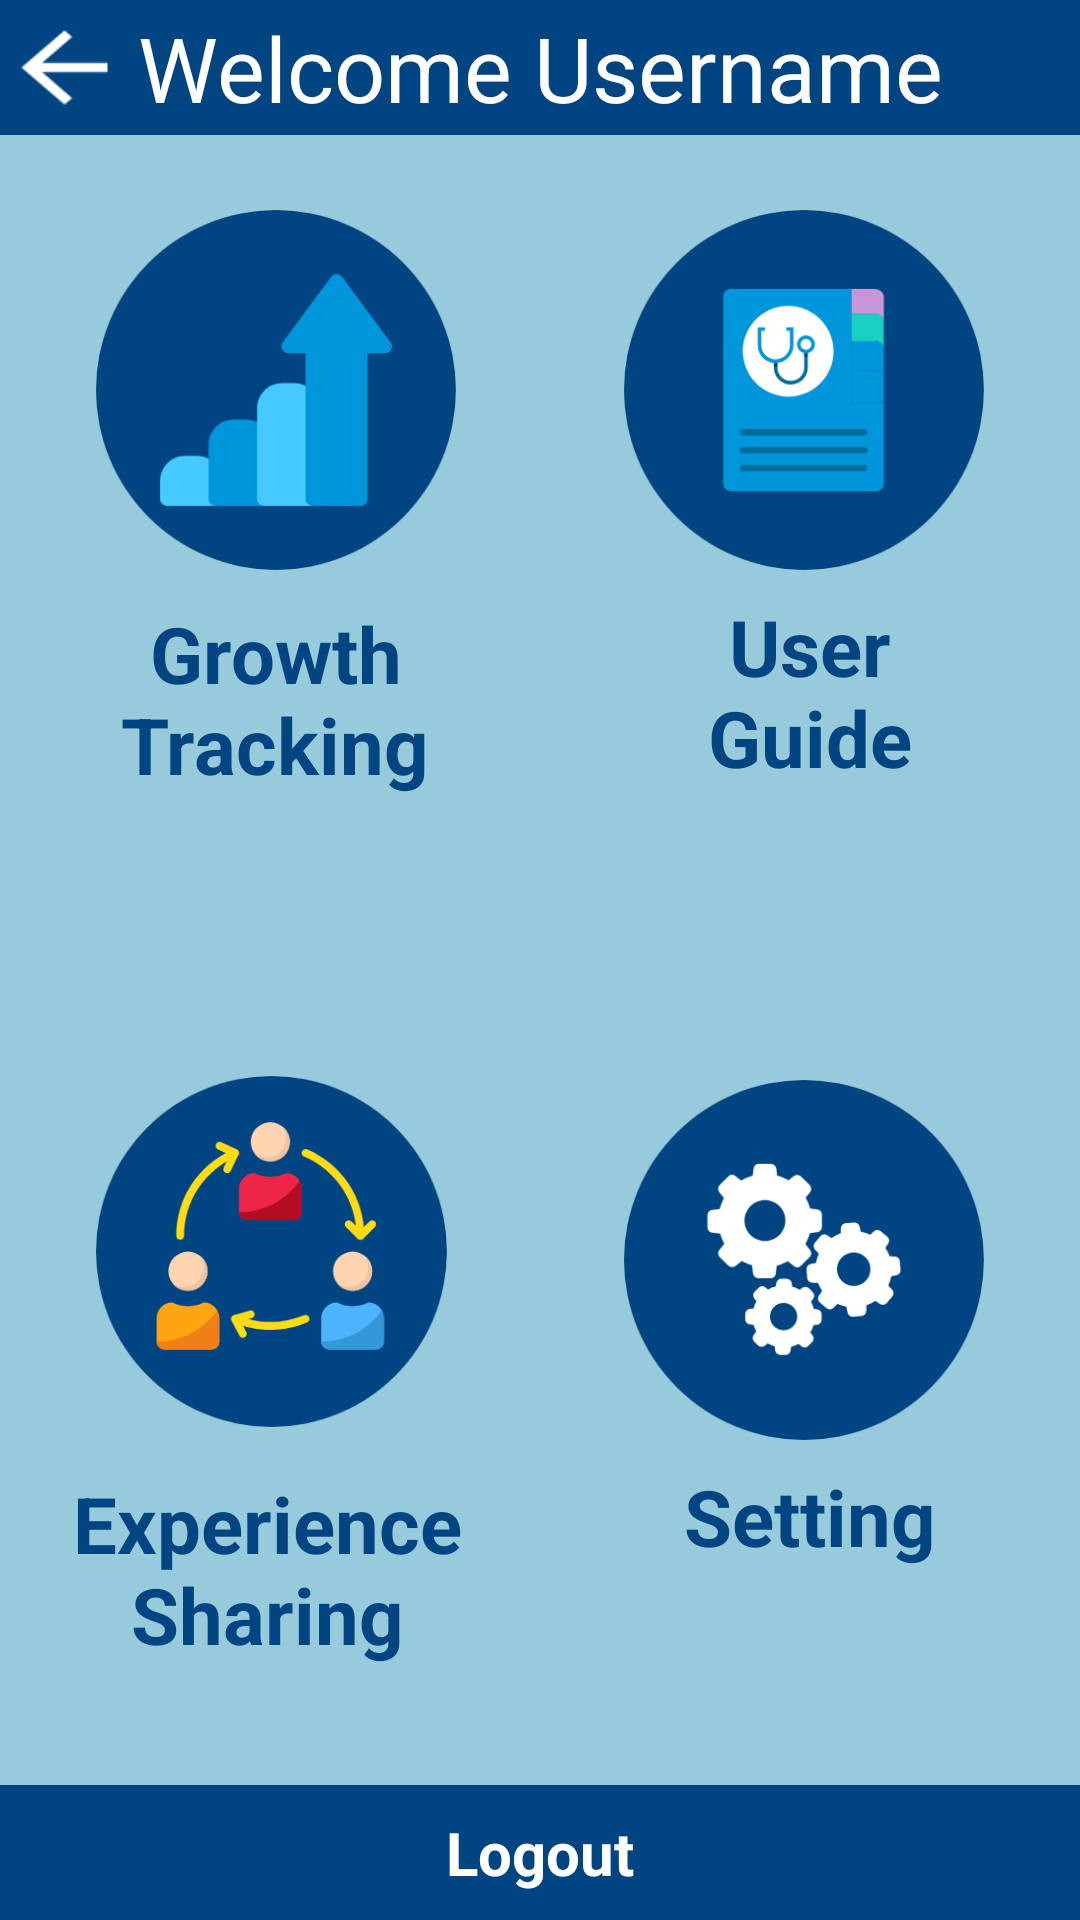

Named icons in this screenshot (1080px×1920px) and their centers, point (x, y):
back: point (64, 67)
